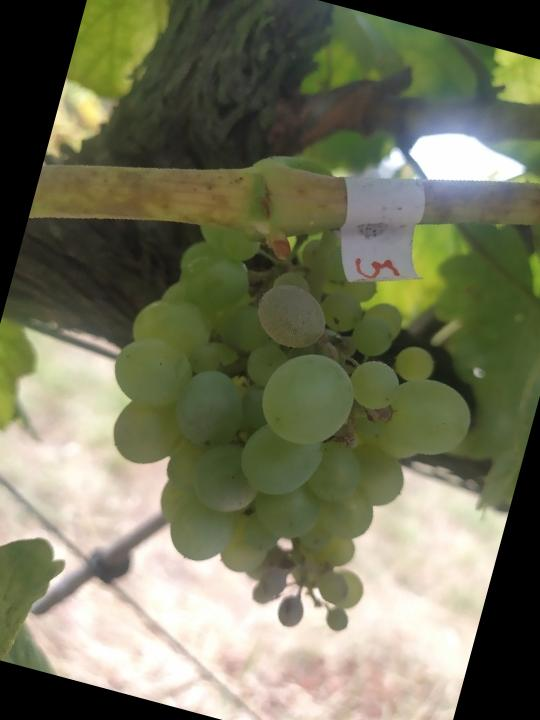grape: (56, 192, 511, 662)
